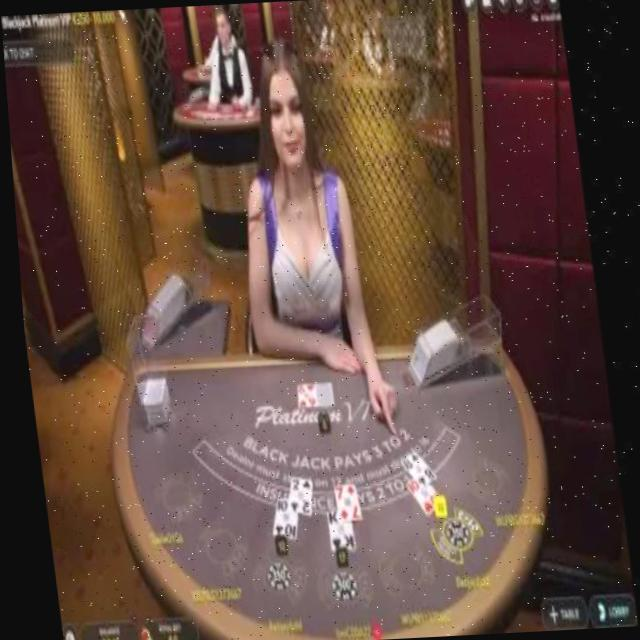Card-10: (398, 479, 435, 518), (265, 498, 290, 540)
Card-2: (280, 476, 304, 517)
Card-6: (291, 383, 311, 408)
Card-7: (326, 483, 354, 523)
Card-8: (392, 450, 430, 489)
Card-K: (319, 510, 347, 552)
